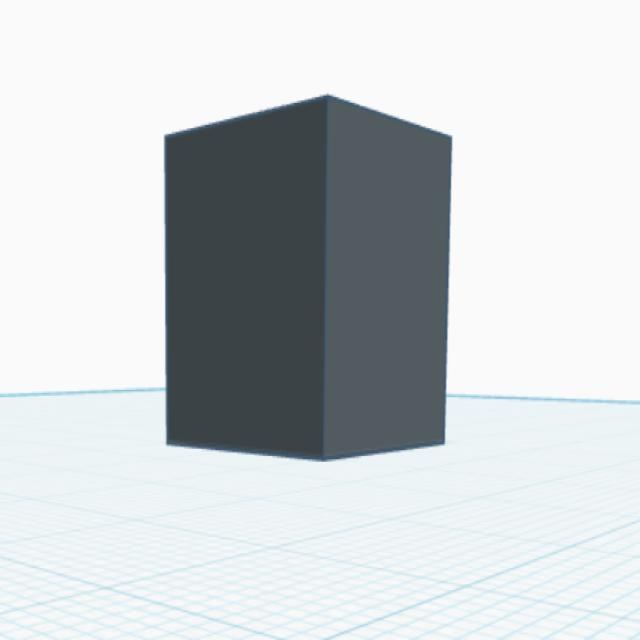cube: (156, 87, 454, 459)
